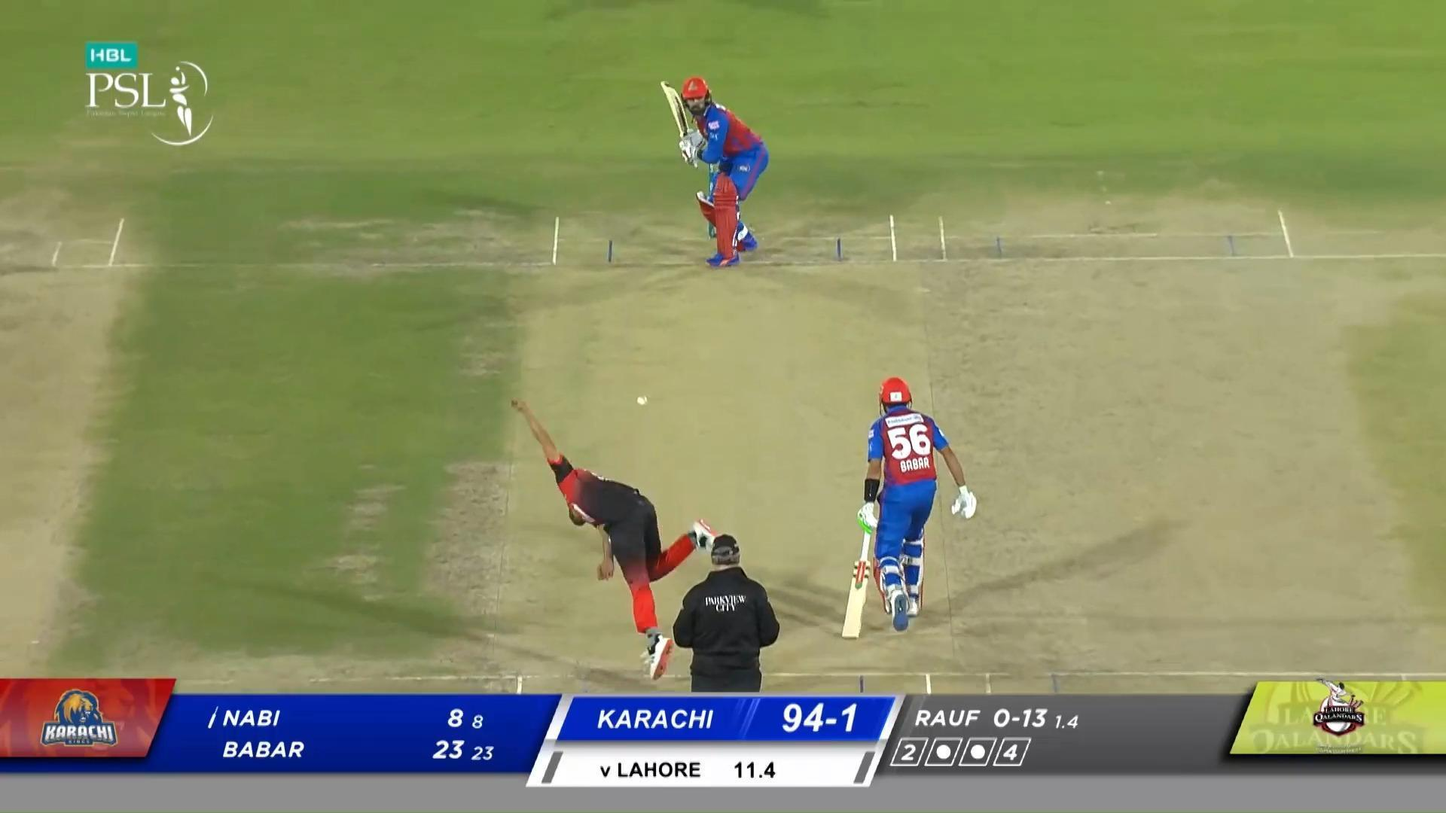BM 1: (660, 76, 769, 267)
BO: (512, 398, 718, 680)
